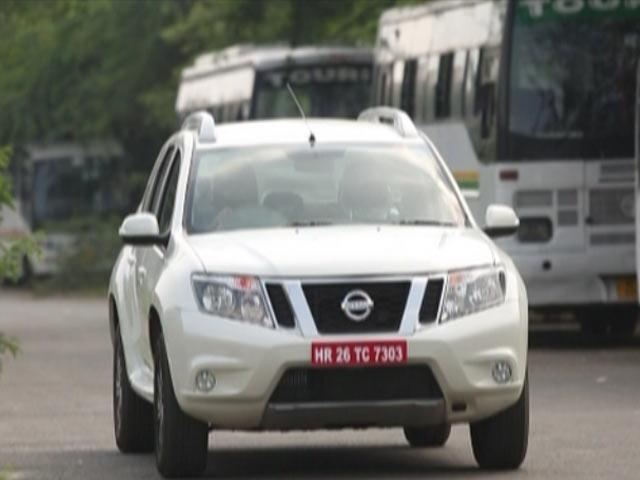License-Plate: (309, 332, 414, 382)
